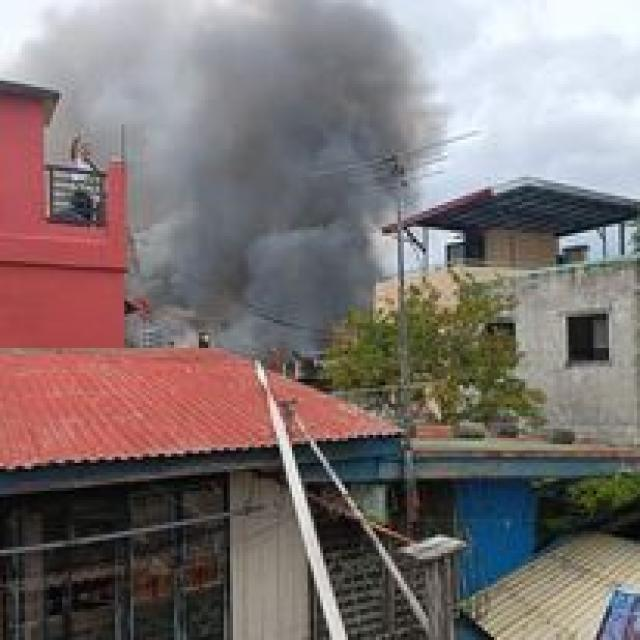Smoke: (110, 2, 430, 366)
